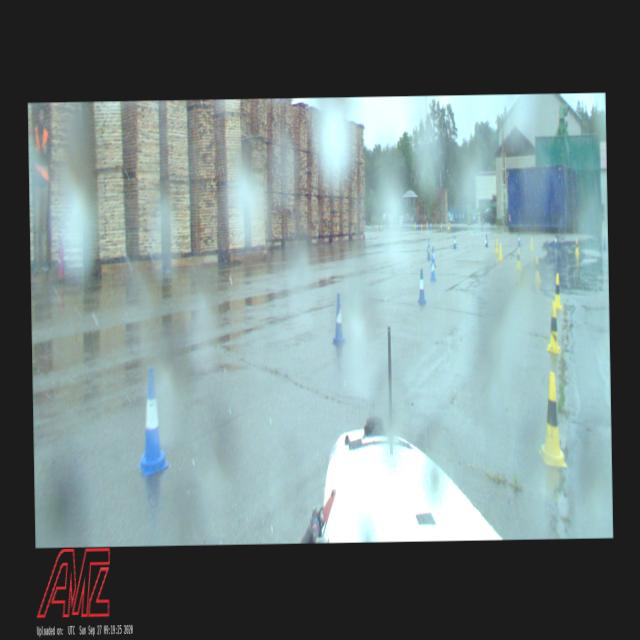blue_cone: (136, 366, 168, 476), (330, 293, 344, 344), (417, 268, 426, 304), (429, 254, 435, 280), (430, 246, 435, 266), (426, 242, 431, 260), (602, 234, 606, 250), (452, 234, 456, 248), (516, 232, 520, 245), (484, 234, 488, 246), (553, 234, 557, 246), (426, 238, 429, 251)
yellow_cone: (536, 372, 566, 468), (545, 301, 561, 353), (554, 273, 562, 309), (534, 255, 540, 280), (515, 248, 521, 268), (574, 239, 579, 254), (498, 242, 502, 260), (494, 238, 498, 253), (529, 237, 533, 250)
